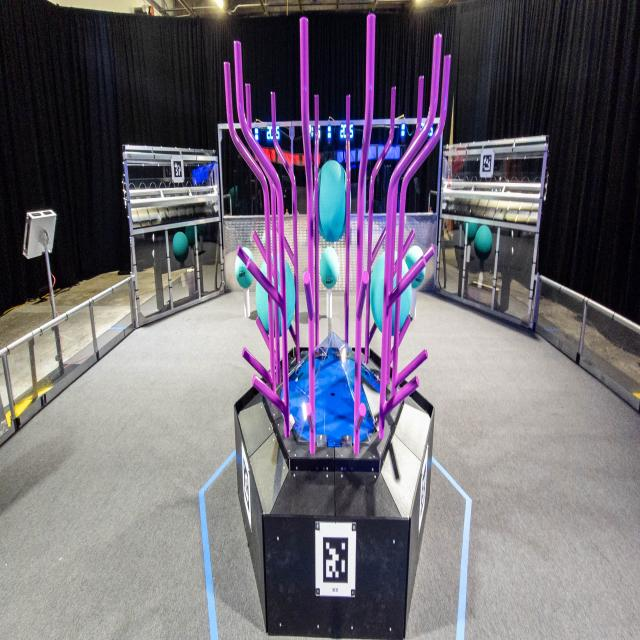Algae: (370, 252, 411, 336), (256, 253, 295, 337), (314, 161, 352, 242), (406, 246, 426, 288), (320, 247, 339, 289), (236, 248, 254, 288)
Coral: (243, 287, 251, 317), (410, 287, 416, 319), (326, 288, 332, 318)
